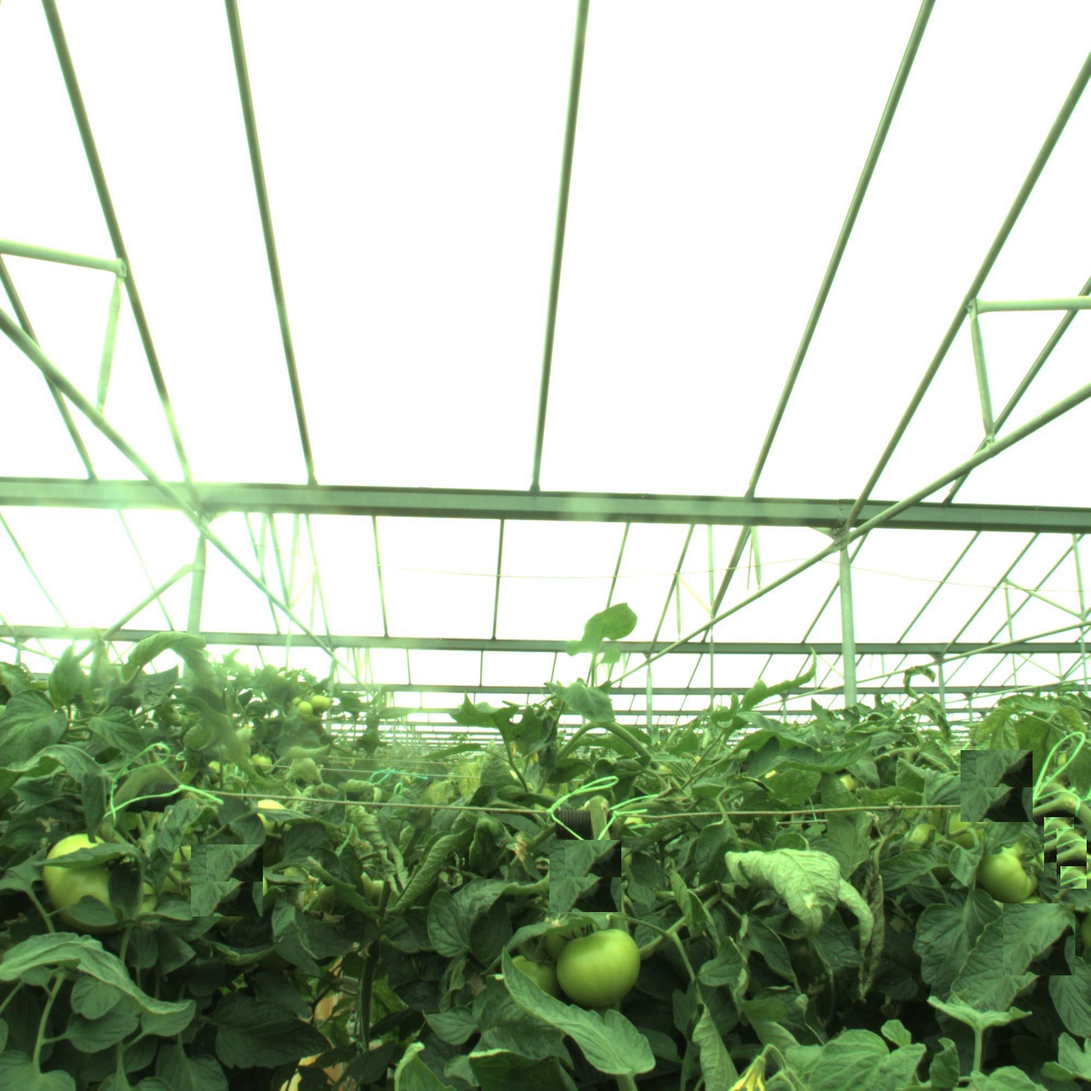unripe: (43, 831, 134, 923), (556, 921, 639, 1004), (976, 838, 1042, 903)
